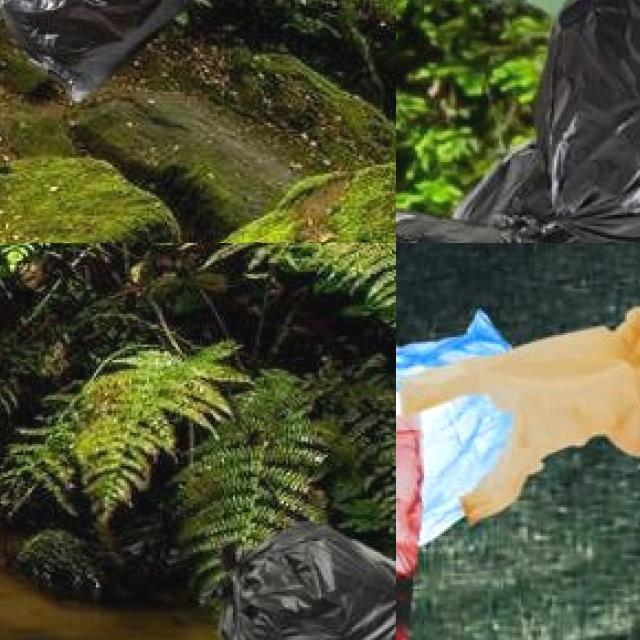waste: (405, 311, 640, 517), (514, 0, 640, 243), (0, 0, 242, 97), (396, 321, 509, 517), (211, 524, 396, 640), (450, 141, 640, 243)
